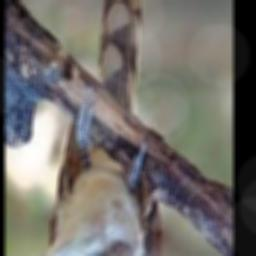Cuckoo: (8, 0, 163, 256)
